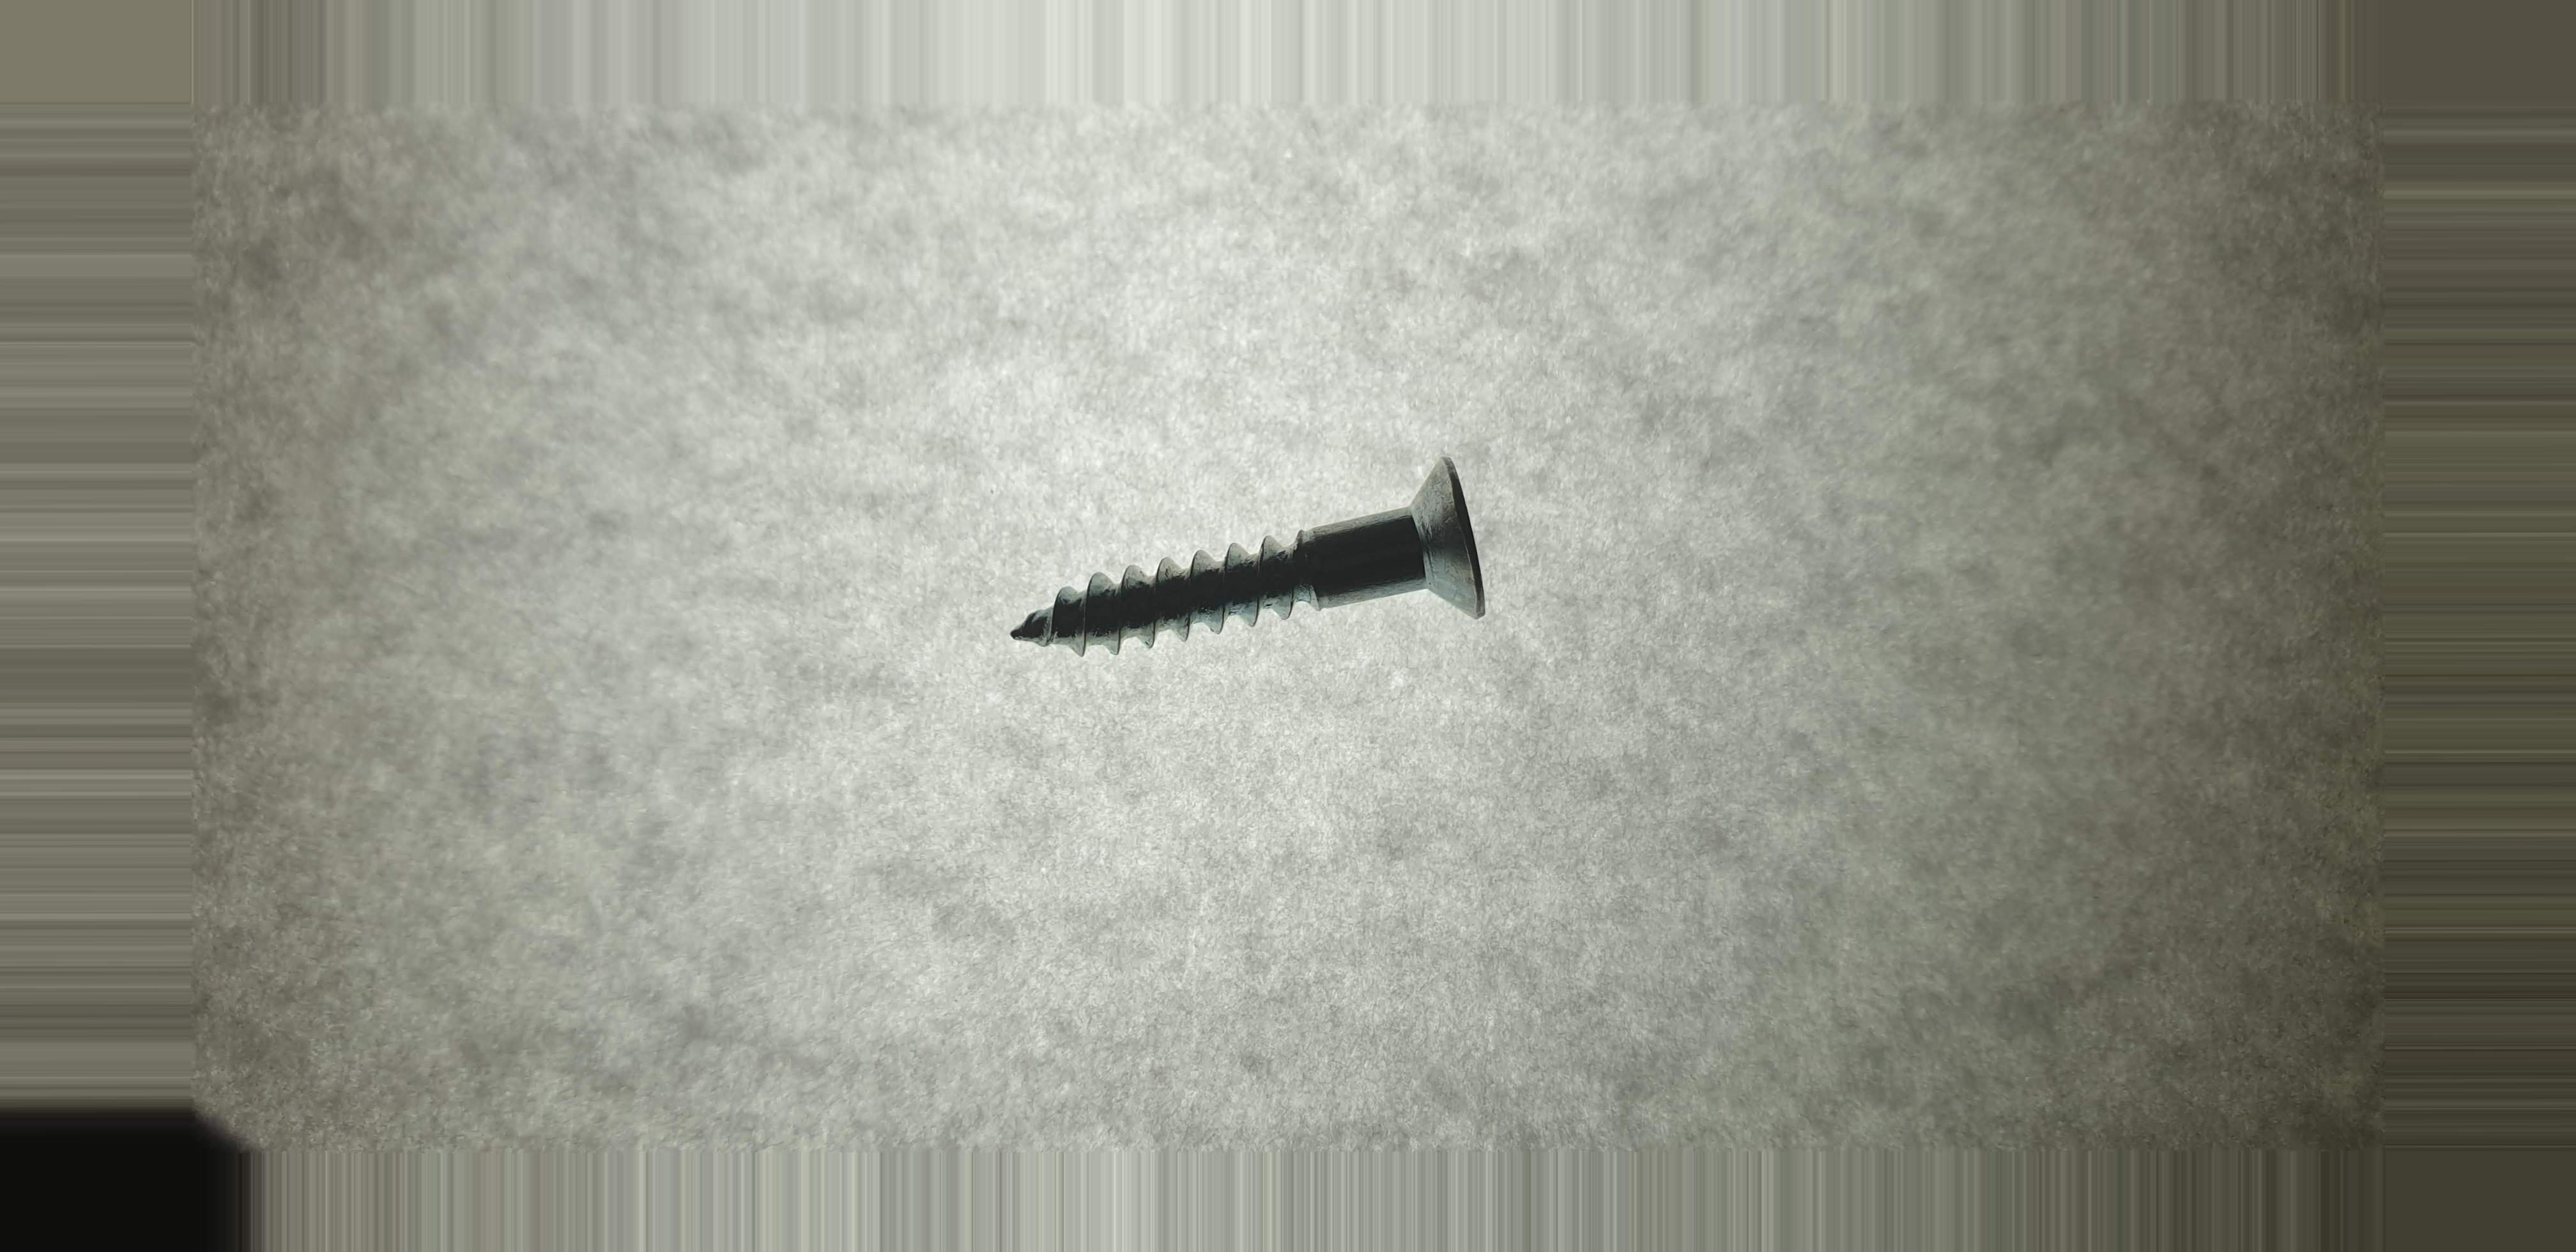S005: (950, 391, 1584, 738)
